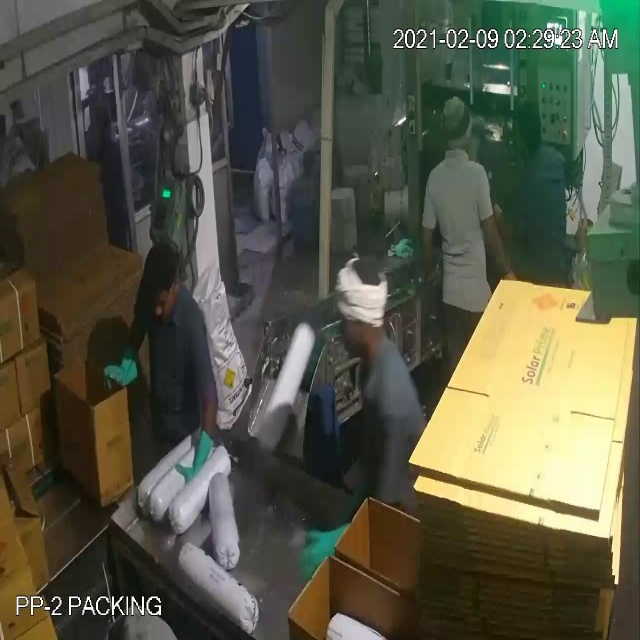Guantes: (289, 516, 379, 591), (176, 420, 216, 495), (104, 332, 143, 402)
Sin_guantes: (480, 199, 519, 291), (414, 217, 442, 287)
